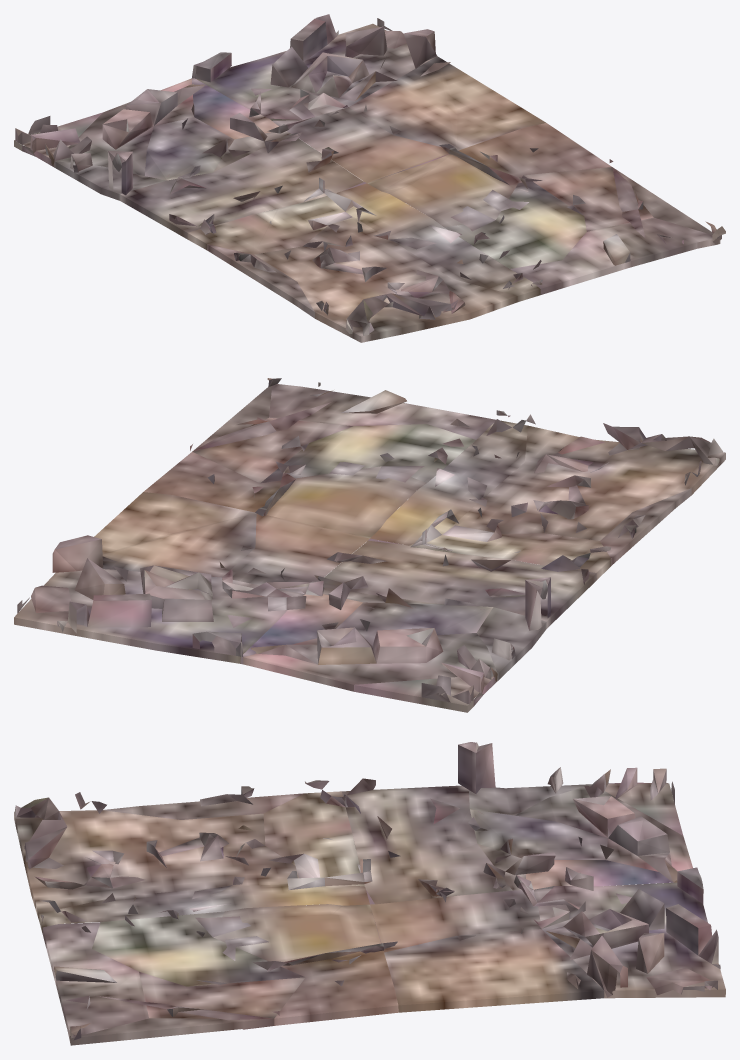
3 renders of one model, top to bottom at view 1: azimuth 30°, elevation 25°; view 2: azimuth 150°, elevation 25°; view 3: azimuth 270°, elevation 25°, orthographic. The views are drawn at different scales.
Parts seen in each view (by area): view 1: Mesh_0; view 2: Mesh_0; view 3: Mesh_0.
Part boxes in pixels (x1,y1,x2,y2): Mesh_0: (14,14,725,342); Mesh_0: (14,378,725,712); Mesh_0: (14,742,725,1045).
Size of the model in its own units: 540 by 72 by 659.
Materials: 1 (1 with a texture image).
